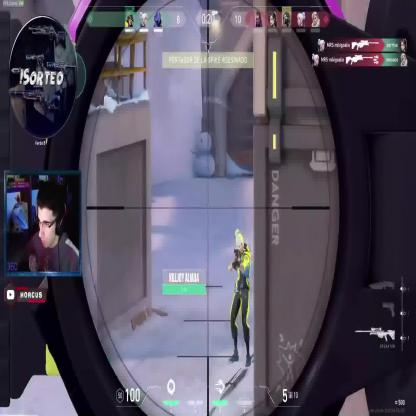enemy: (227, 227, 252, 366)
enemy_head: (233, 229, 244, 254)
